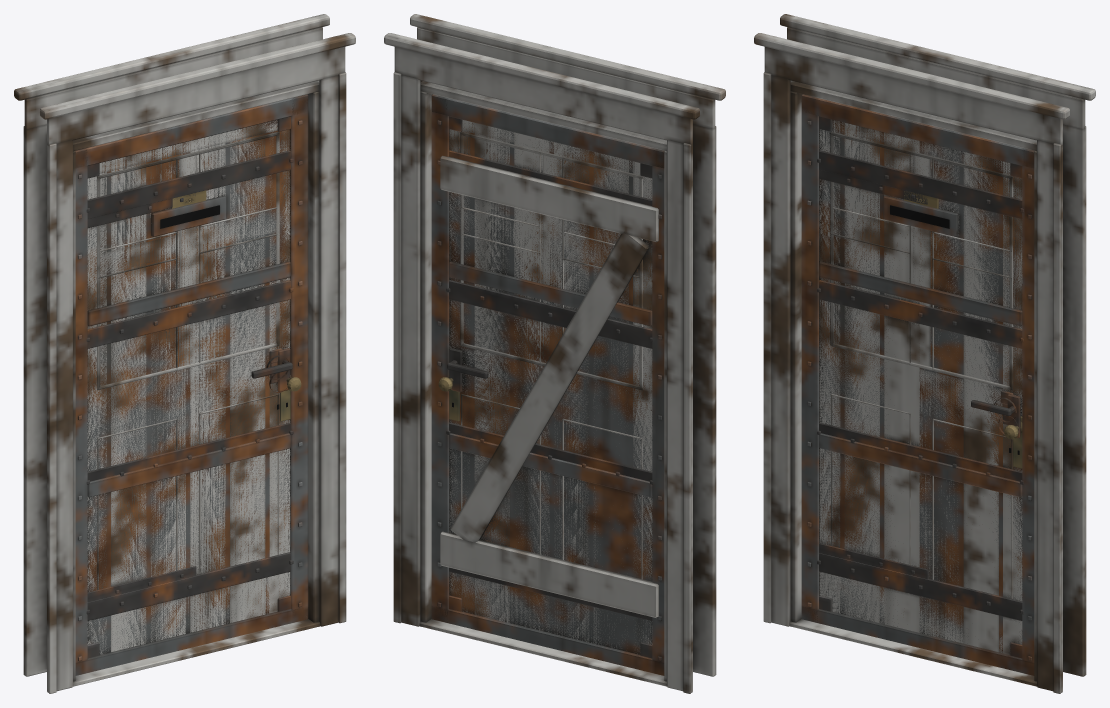
File: VoidDoors.fbx
3 renders of one model, left to right at view 1: azimuth 30°, elevation 25°; view 2: azimuth 150°, elevation 25°; view 3: azimuth 330°, elevation 25°, orthographic.
Parts seen in each view (by area): view 1: VoidDoor_F, VoidDoor_Frame, VoidDoor_E, VoidDoor_D, VoidDoor_A, VoidDoor_B, VoidDoor_C; view 2: VoidDoor_F, VoidDoor_Frame, VoidDoor_D, VoidDoor_E, VoidDoor_A, VoidDoor_C, VoidDoor_B; view 3: VoidDoor_Frame, VoidDoor_F, VoidDoor_D, VoidDoor_E, VoidDoor_A, VoidDoor_C, VoidDoor_B.
Boxes of the visible parts, left/top/right/bottom form: VoidDoor_F: left=75, top=94, right=308, bottom=675; VoidDoor_Frame: left=14, top=14, right=355, bottom=693; VoidDoor_E: left=86, top=116, right=293, bottom=658; VoidDoor_D: left=87, top=125, right=290, bottom=654; VoidDoor_A: left=87, top=121, right=301, bottom=653; VoidDoor_B: left=98, top=137, right=278, bottom=385; VoidDoor_C: left=97, top=131, right=279, bottom=390; VoidDoor_F: left=431, top=94, right=664, bottom=675; VoidDoor_Frame: left=384, top=14, right=725, bottom=693; VoidDoor_D: left=440, top=121, right=658, bottom=653; VoidDoor_E: left=446, top=116, right=653, bottom=658; VoidDoor_A: left=438, top=120, right=652, bottom=648; VoidDoor_C: left=460, top=131, right=642, bottom=390; VoidDoor_B: left=461, top=135, right=641, bottom=388; VoidDoor_Frame: left=754, top=14, right=1095, bottom=693; VoidDoor_F: left=801, top=94, right=1034, bottom=675; VoidDoor_D: left=819, top=121, right=1022, bottom=654; VoidDoor_E: left=817, top=116, right=1023, bottom=658; VoidDoor_A: left=819, top=120, right=1022, bottom=652; VoidDoor_C: left=830, top=131, right=1012, bottom=390; VoidDoor_B: left=831, top=134, right=1011, bottom=386.
Size of the model in its own units: 1.26 by 2.26 by 0.22.
Materials: 1 (1 with a texture image).
